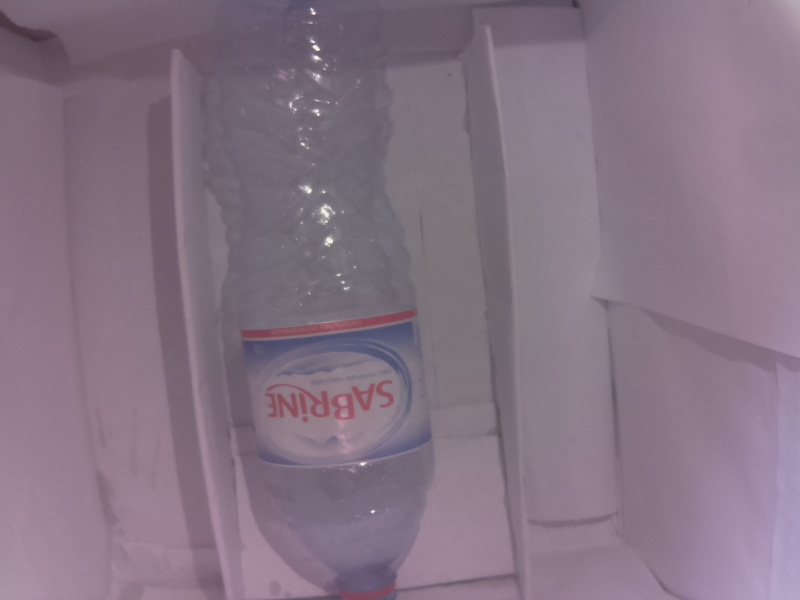botolplastik: (221, 7, 435, 600)
